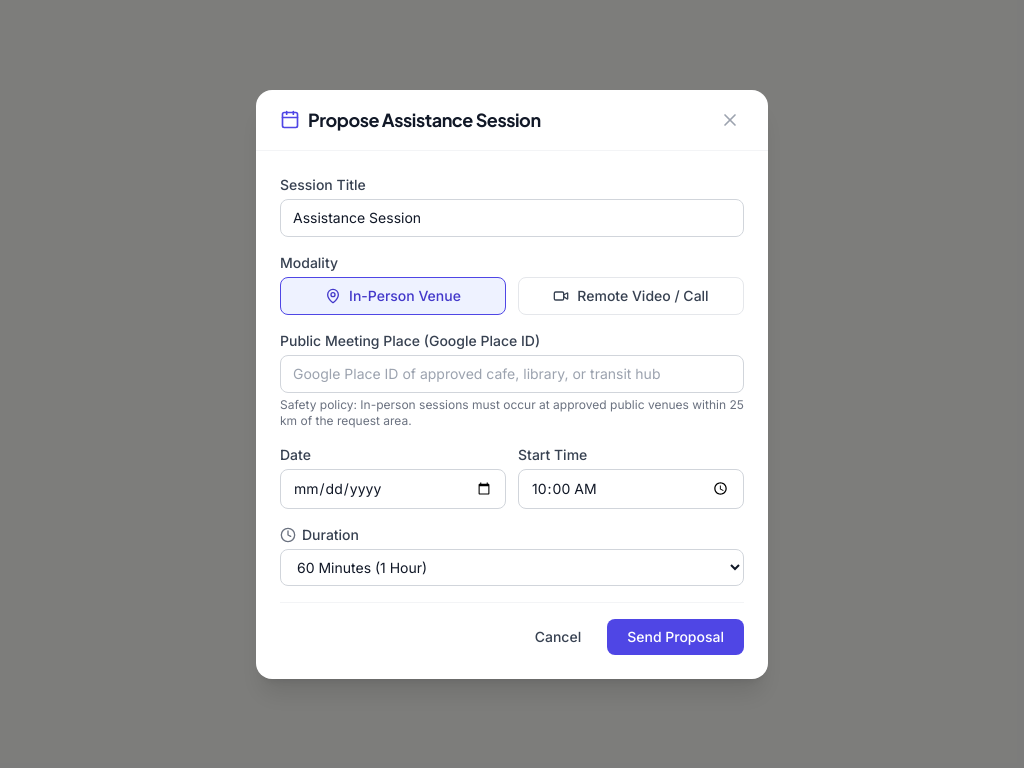
Test: Phase 14 — Sessions and Availability Frontend Components › 10. ProposeSessionModal enforces Google Places ID for in-person modality
Check: the heading "Propose Assistance Session" is shown, box [308,106,541,134]
Type "2027-05-15" into the date field labelled "Date". click: (393,488)
box: [280,468,506,508]
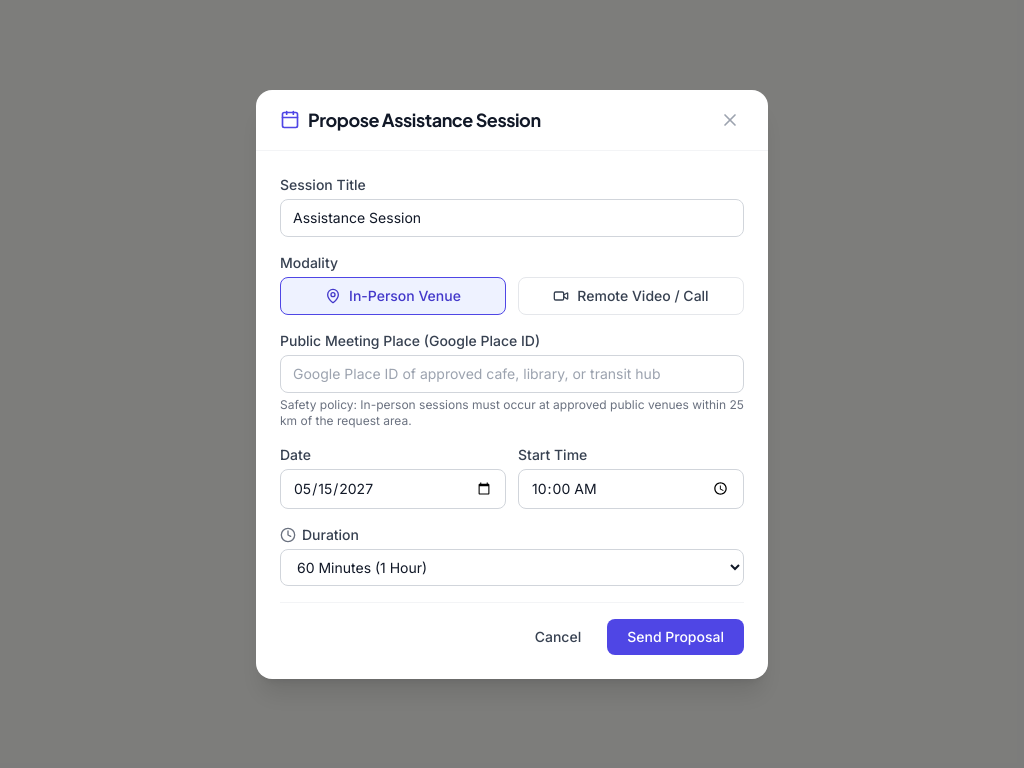
Note: Submit with empty meeting_place_id
Submit the text "Send Proposal", box [256,150,768,678]
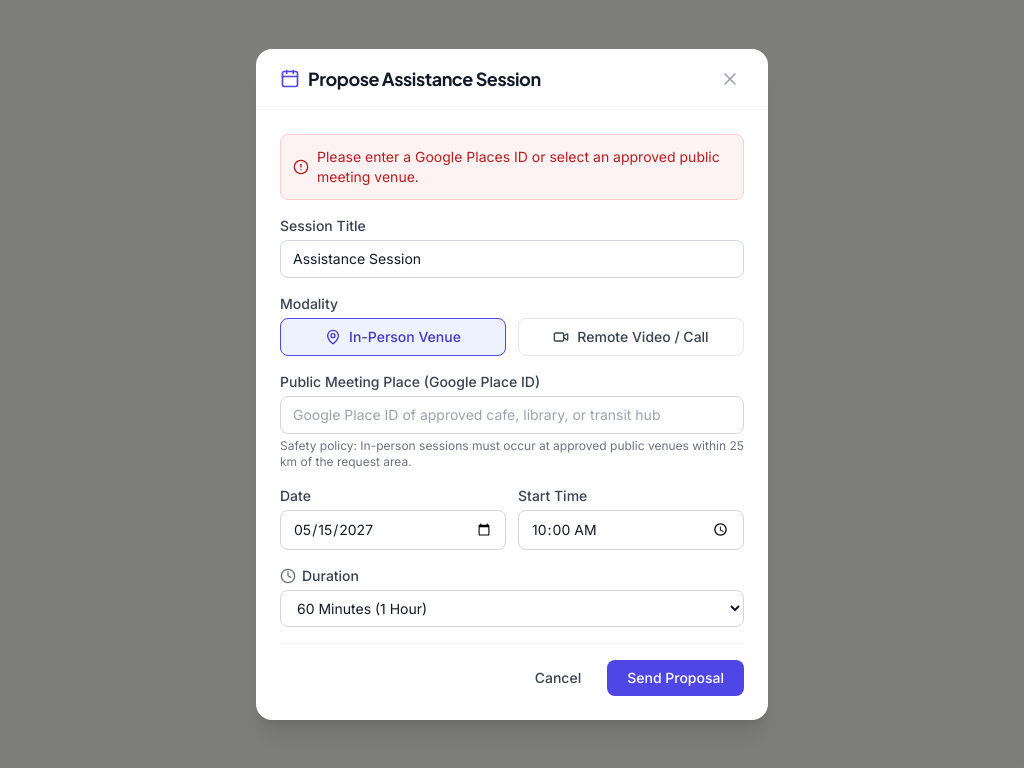
Check: the text "Please enter a Google Places ID" is shown, box [317,148,720,184]
